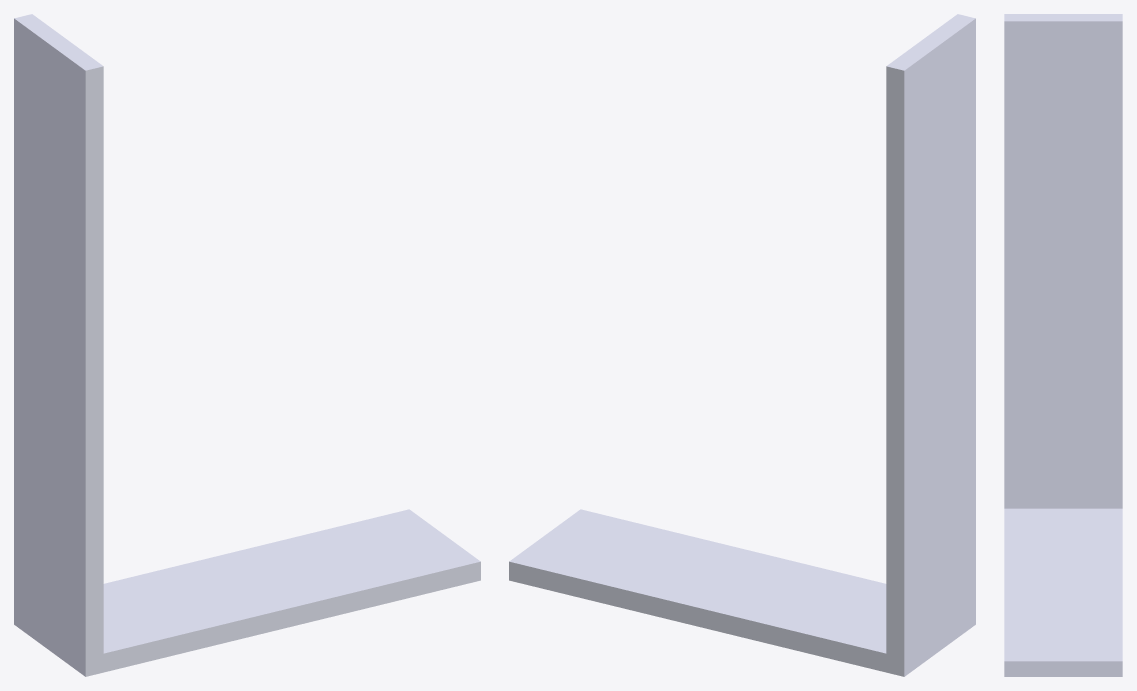
Rendered from 1cdd894d-05eb-4d8b-95ac-ae4b9ff32834.glb.
3 renders of one model, left to right at view 1: azimuth 30°, elevation 25°; view 2: azimuth 150°, elevation 25°; view 3: azimuth 270°, elevation 25°, orthographic. The views are drawn at different scales.
Parts seen in each view (by area): view 1: l_AlphaProta_Grey; view 2: l_AlphaProta_Grey; view 3: l_AlphaProta_Grey.
Part boxes in pixels (bbox=[...]): l_AlphaProta_Grey: bbox=[14, 14, 480, 676]; l_AlphaProta_Grey: bbox=[509, 14, 975, 676]; l_AlphaProta_Grey: bbox=[1004, 14, 1122, 676].
Size of what is drawn, in the model's own units: 0.1436 by 0.2105 by 0.045.
2 materials, 2 textured.
